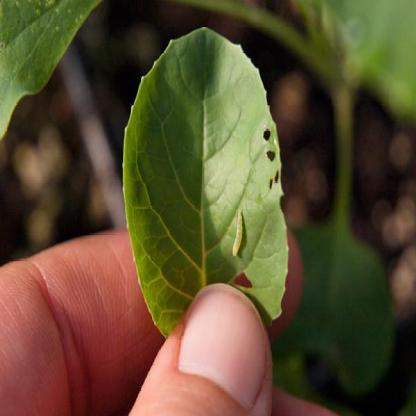armyworm: (230, 204, 245, 266)
